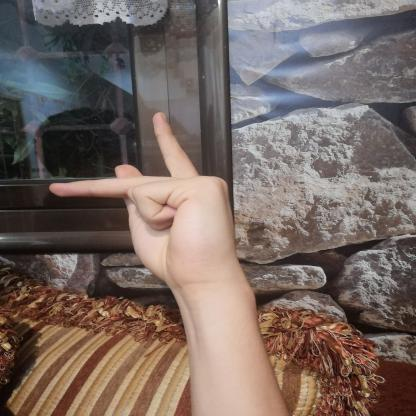DHAA: (35, 100, 246, 298)
